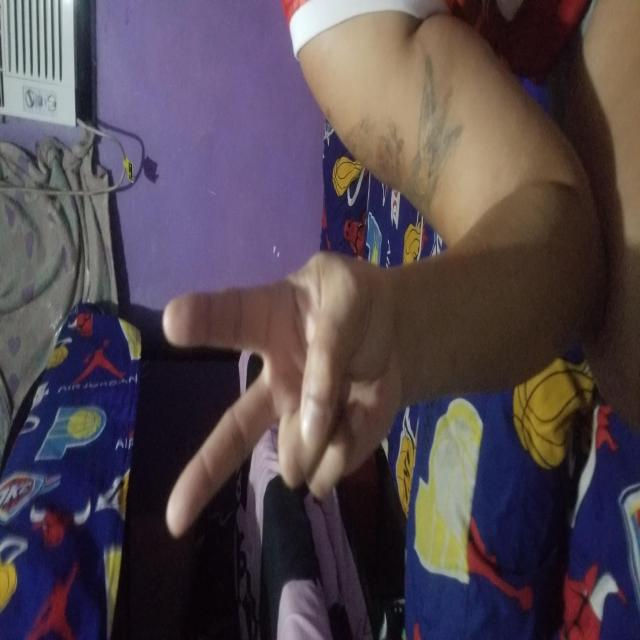V: (103, 162, 389, 397)
